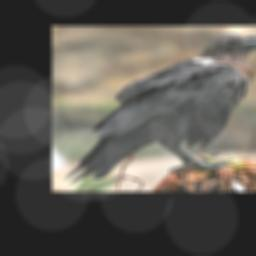Crow: (63, 32, 256, 184)
